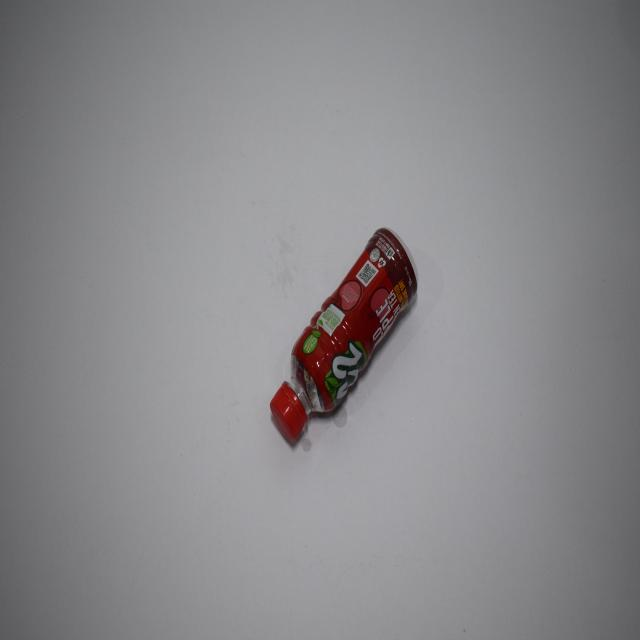bottle: (266, 214, 424, 453)
